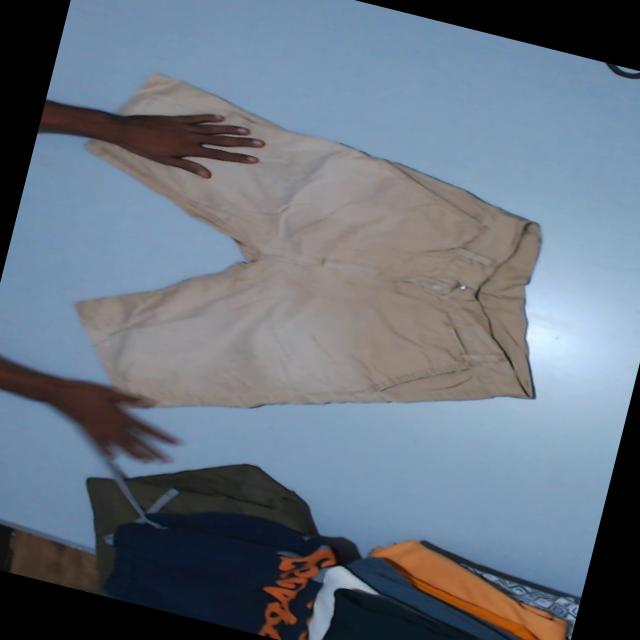new-garment: (76, 73, 539, 406)
